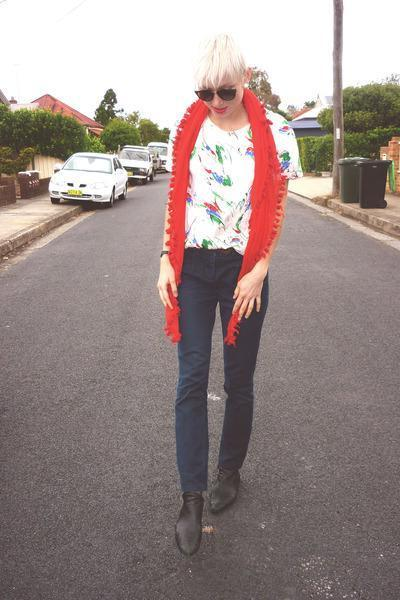short sleeve shirt: (160, 101, 303, 247)
trousers: (161, 248, 273, 496)
